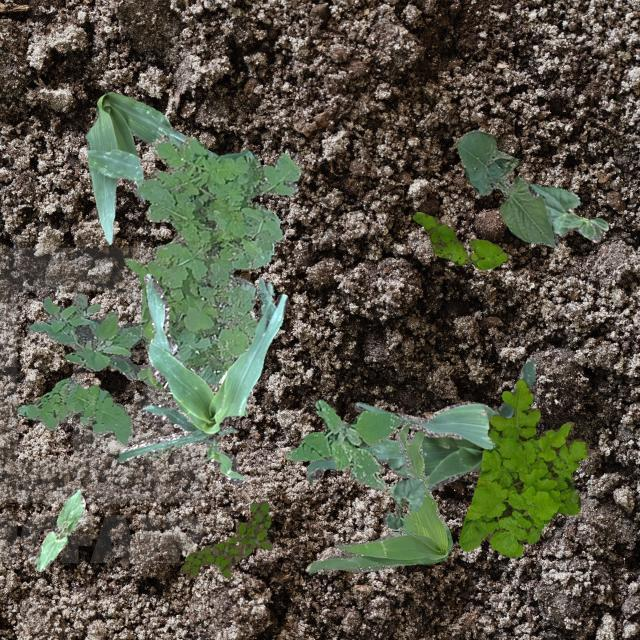crop: (116, 272, 286, 483), (304, 358, 534, 490), (84, 90, 216, 244), (456, 128, 558, 245), (528, 182, 606, 242), (36, 488, 84, 570), (382, 478, 424, 528)
weed: (123, 134, 300, 394), (458, 378, 590, 558), (308, 418, 452, 572), (28, 292, 156, 388), (284, 398, 400, 488), (15, 376, 132, 444), (180, 500, 270, 578), (412, 210, 508, 268)
